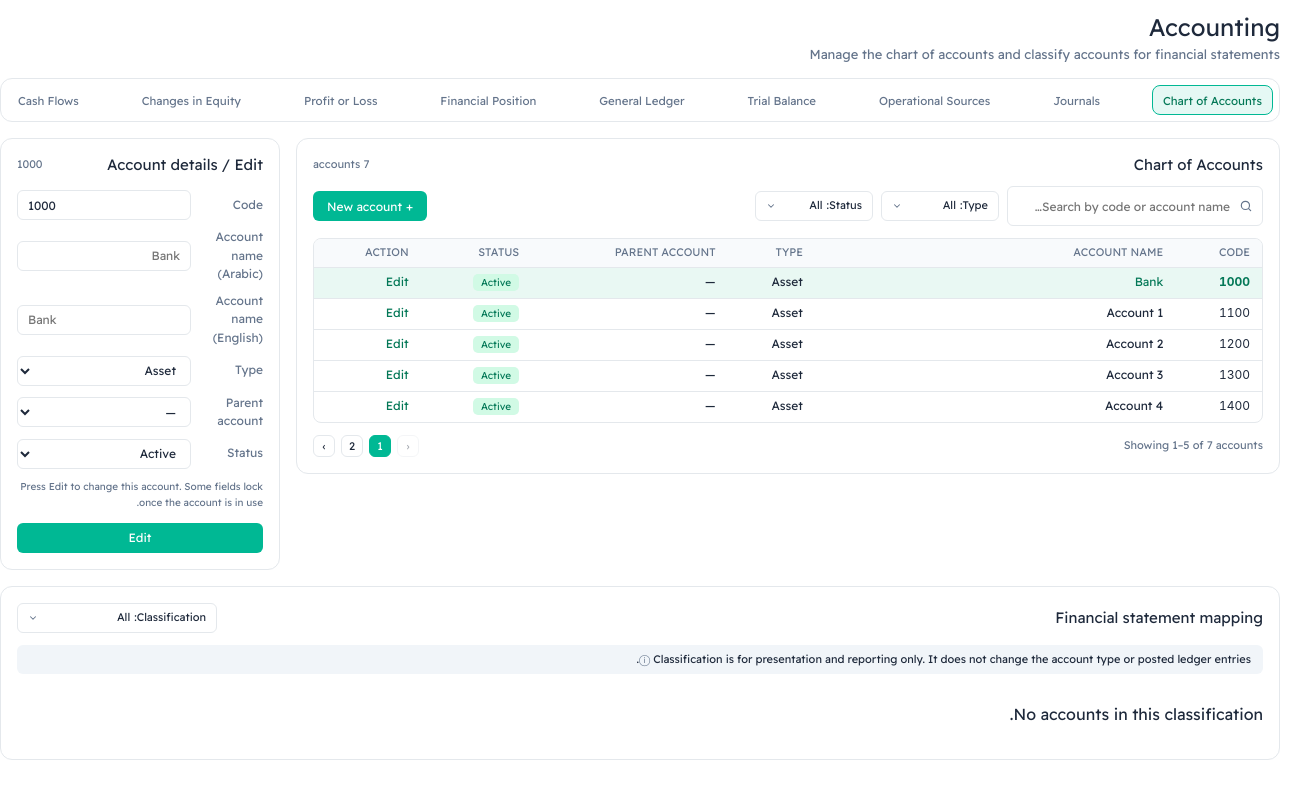
Test: Accounting chart-of-accounts workspace › locks the type when the account has child accounts
The width and height of the screenshot is (1292, 797).
Check: the text "Bank" is shown, box [815,267,1175,298]
Click the button "Edit" below "Account name (English)": (140, 538) [17,523,263,553]
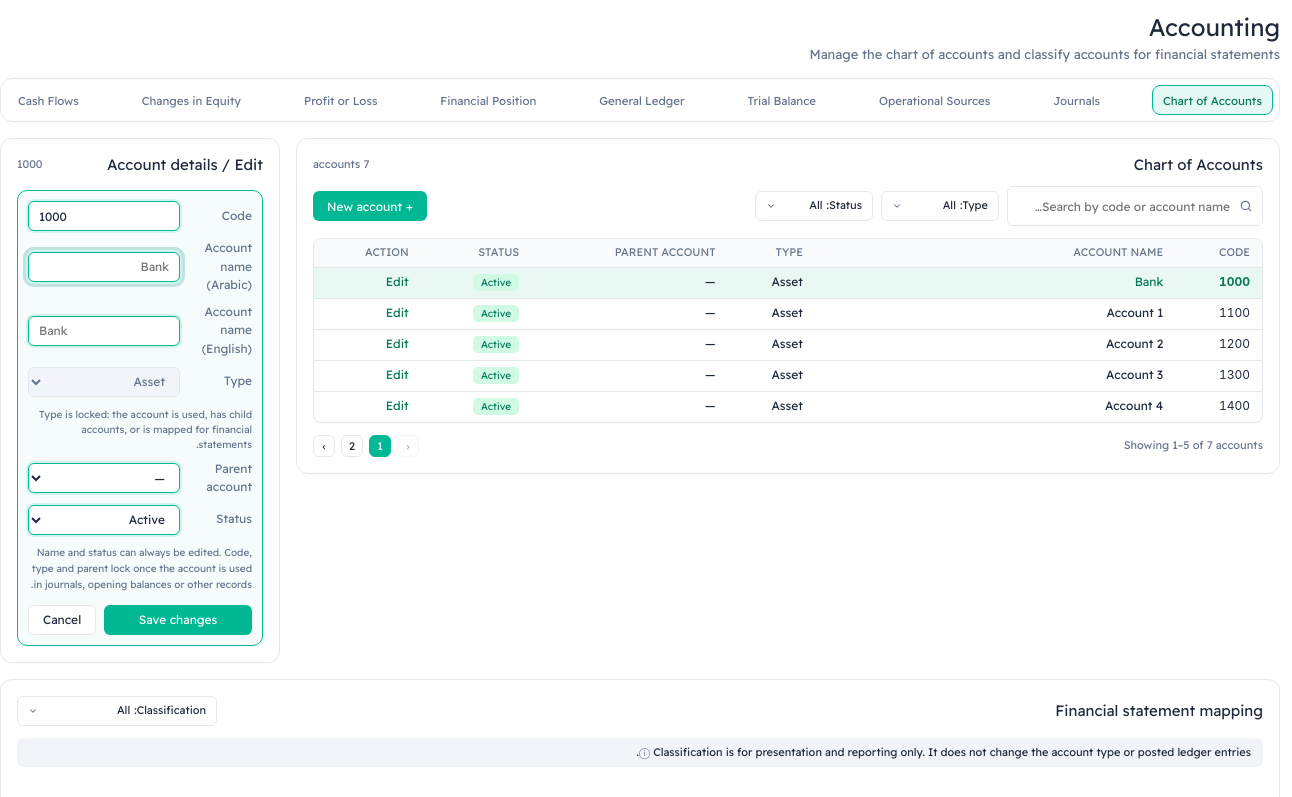
Check: the 3rd dropdown is disabled, box [28,367,180,397]
Check: the field labelled "Code" is enabled, box [28,201,180,231]
